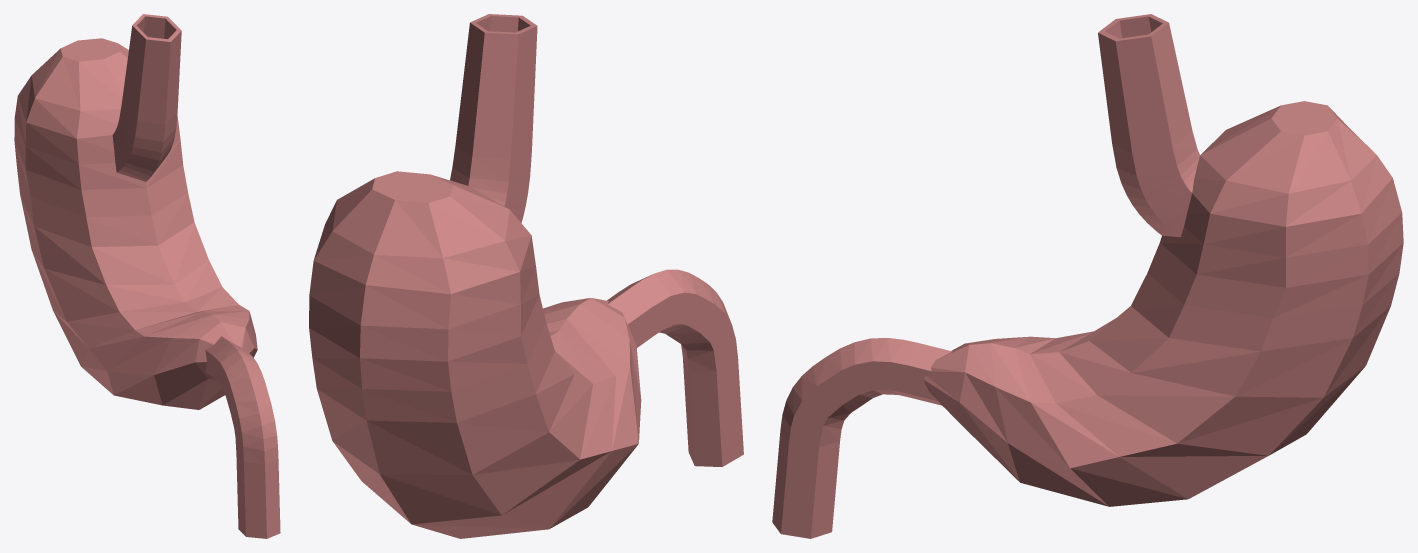
The model's file is Stomach.fbx.
3 renders of one model, left to right at view 1: azimuth 30°, elevation 25°; view 2: azimuth 150°, elevation 25°; view 3: azimuth 270°, elevation 25°, orthographic. The views are drawn at different scales.
Parts seen in each view (by area): view 1: Stomach_1; view 2: Stomach_1; view 3: Stomach_1.
Boxes of the visible parts, box(x1,y1,x2,y2) form: Stomach_1: box(14, 14, 280, 538); Stomach_1: box(309, 14, 743, 538); Stomach_1: box(772, 14, 1403, 538).
Size of the model in its own units: 10.23 by 26.82 by 29.32.
